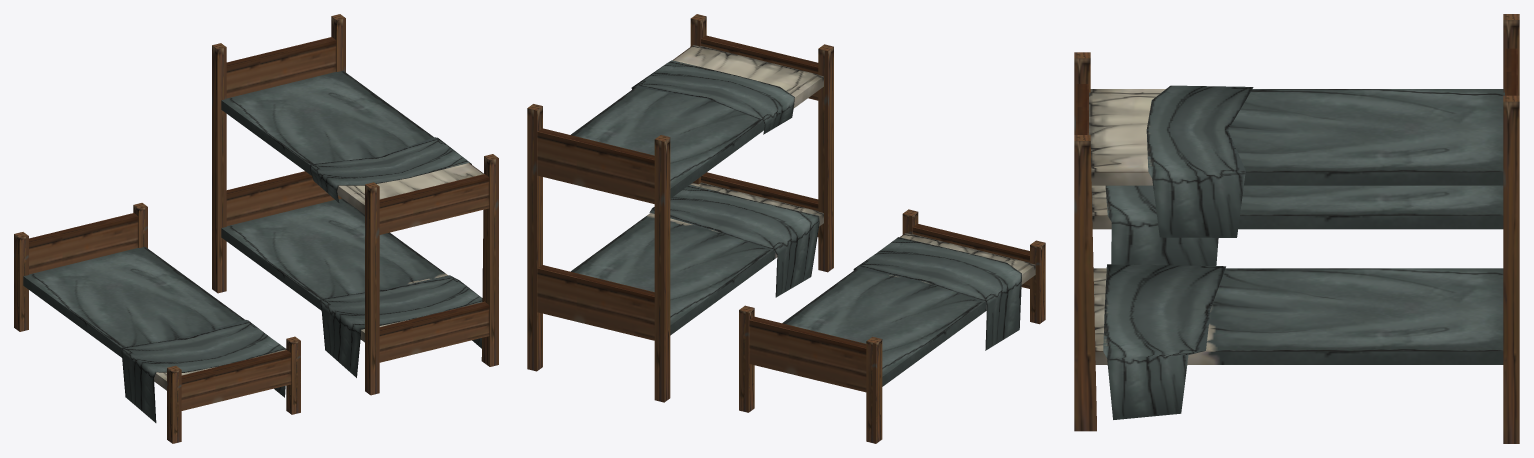
Rendered from 2_WGJ_Chuang_01.FBX.
The picture shows the model from 3 angles, left to right: view 1: azimuth 30°, elevation 25°; view 2: azimuth 150°, elevation 25°; view 3: azimuth 270°, elevation 25°; orthographic projection. The views are drawn at different scales.
Visible parts, largest first — view 1: 2_WGJ_Chuang_02, 2_WGJ_Chuang_01; view 2: 2_WGJ_Chuang_02, 2_WGJ_Chuang_01; view 3: 2_WGJ_Chuang_02, 2_WGJ_Chuang_01.
Boxes of the visible parts, x1=… form: 2_WGJ_Chuang_02: x1=212, y1=14, x2=498, y2=395; 2_WGJ_Chuang_01: x1=14, y1=203, x2=300, y2=443; 2_WGJ_Chuang_02: x1=527, y1=14, x2=833, y2=402; 2_WGJ_Chuang_01: x1=739, y1=209, x2=1045, y2=443; 2_WGJ_Chuang_02: x1=1074, y1=14, x2=1519, y2=443; 2_WGJ_Chuang_01: x1=1091, y1=185, x2=1503, y2=265.
Size of the model in its own units: 836 by 594 by 701.
Materials: 1 (1 with a texture image).
